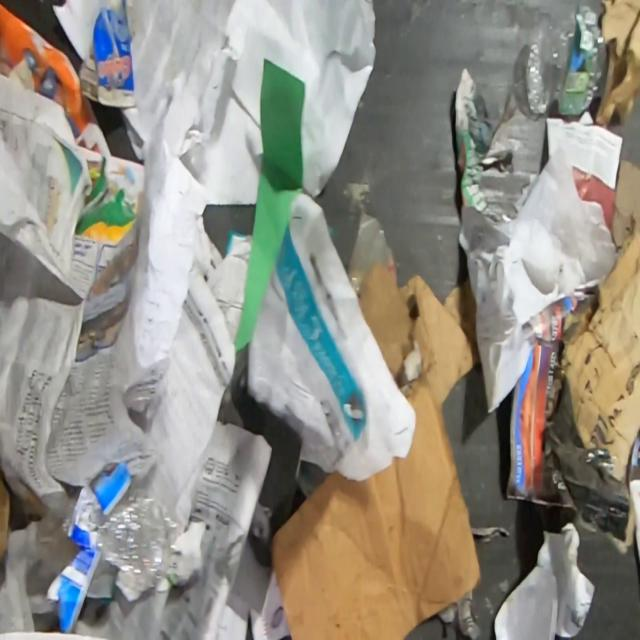cardboard: (269, 261, 484, 639), (544, 156, 640, 483), (0, 2, 113, 157), (454, 66, 547, 224), (592, 0, 640, 132), (78, 5, 137, 109), (0, 469, 14, 565)
rigid_plastic: (91, 489, 186, 595), (524, 1, 610, 118), (26, 494, 82, 583)
soft_plastic: (346, 208, 399, 297)
